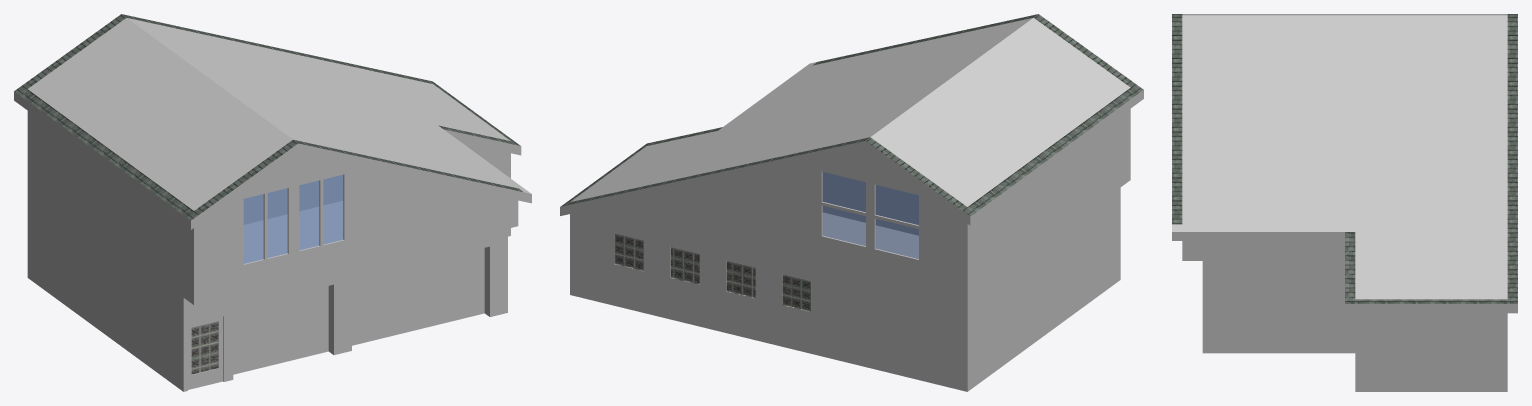
Rendered from warehouse_4.glb.
3 views of the same model, side by side, from view 1: azimuth 30°, elevation 25°; view 2: azimuth 150°, elevation 25°; view 3: azimuth 270°, elevation 25° (orthographic). The views are drawn at different scales.
Parts seen in each view (by area): view 1: root; view 2: root; view 3: root.
Boxes of the visible parts, left/top/right/bottom form: root: left=14, top=14, right=531, bottom=391; root: left=560, top=14, right=1143, bottom=391; root: left=1172, top=14, right=1517, bottom=391.
Bounding box in the file's own units: 8405 × 4523 × 6151.
4 materials, 2 textured.
